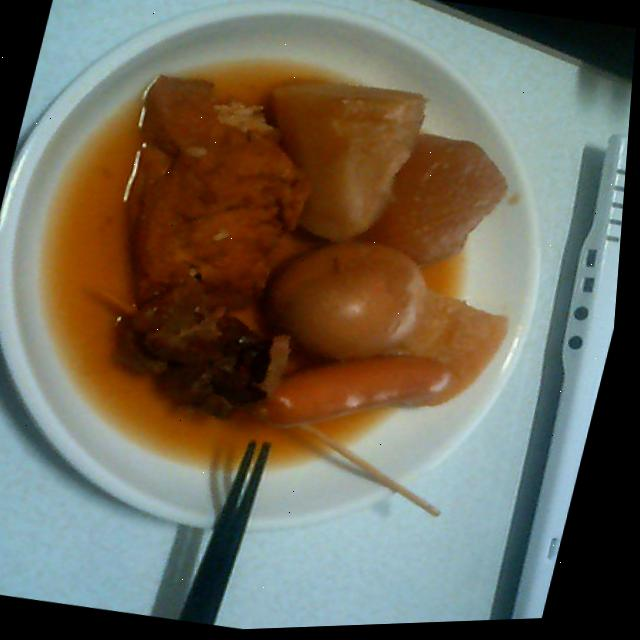汤锅炖物: (58, 38, 575, 482)
